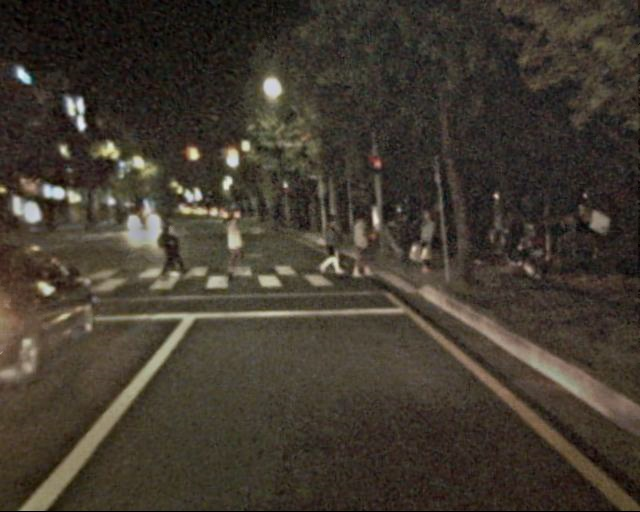person: (345, 209, 377, 286), (158, 213, 189, 288), (385, 207, 415, 281), (215, 210, 244, 280), (313, 212, 341, 281), (487, 199, 514, 266), (414, 212, 440, 275), (429, 200, 454, 261)
